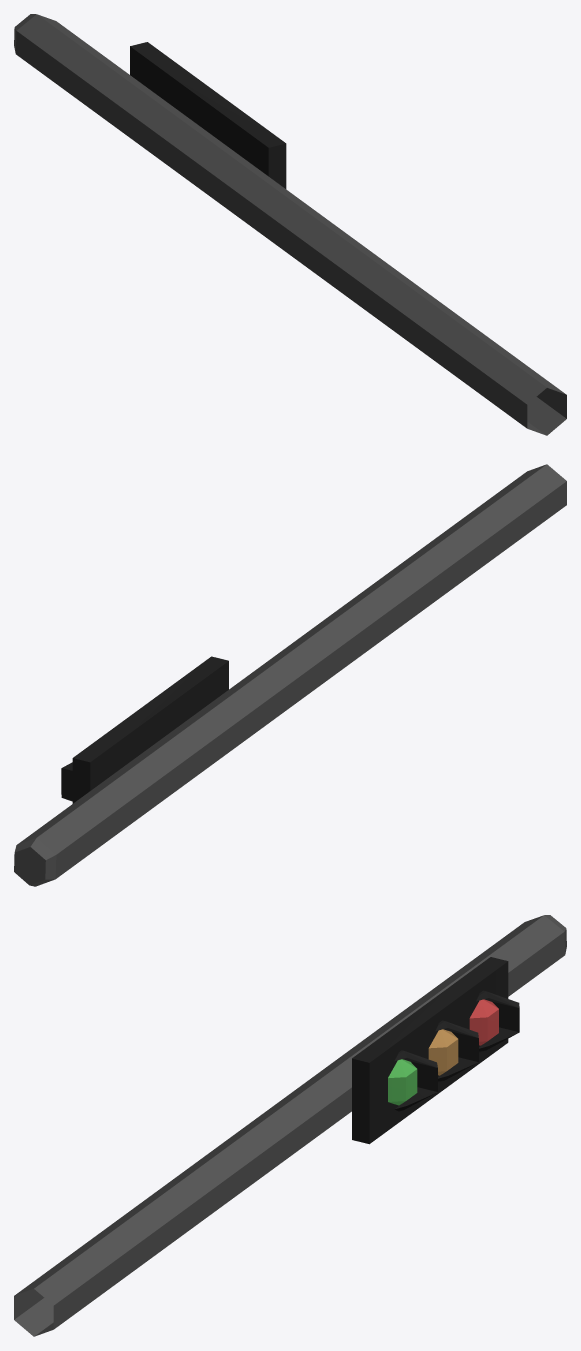
File: TrafficLight.dae
3 renders of one model, top to bottom at view 1: azimuth 30°, elevation 25°; view 2: azimuth 150°, elevation 25°; view 3: azimuth 330°, elevation 25°, orthographic.
Visible parts, largest first — view 1: Traffic_light_02; view 2: Traffic_light_02; view 3: Traffic_light_02.
Boxes of the visible parts, x1,y1,x2,y2 form: Traffic_light_02: (14, 14, 566, 435); Traffic_light_02: (14, 464, 566, 886); Traffic_light_02: (14, 915, 566, 1336).
Bounding box in the file's own units: 0.2398 × 2.54 × 0.22.
Materials: 1 (1 with a texture image).
